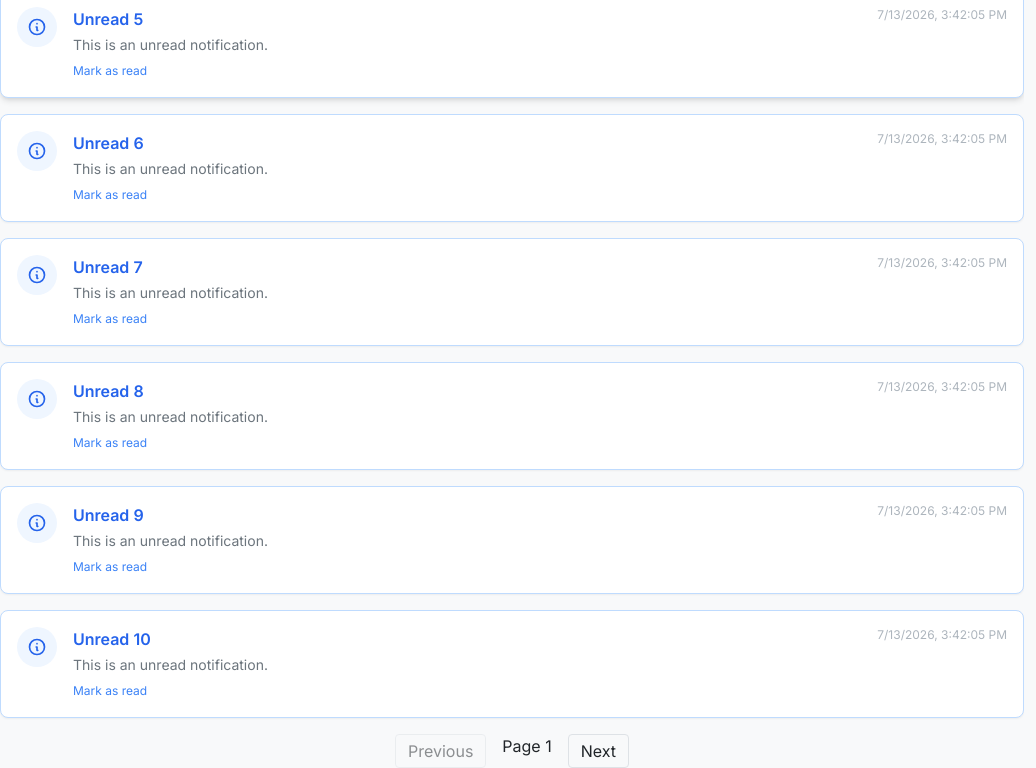
it: NotificationList › does not show read notifications on page 2
This screenshot has width=1036, height=768.
(page scrolled)
Note: Wait for the Next button to appear
Click the button "Next".
click(598, 751)  # box [568, 734, 629, 767]
(page scrolled)
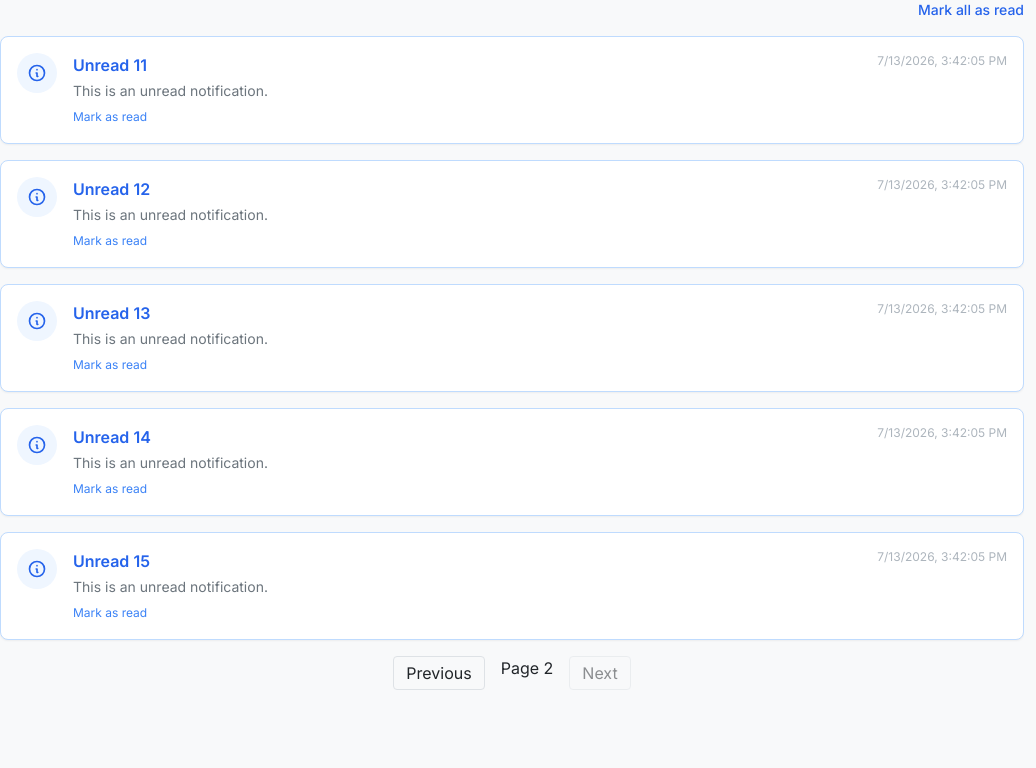
Expected: the heading "Unread 11" is shown, [73, 55, 147, 75]
